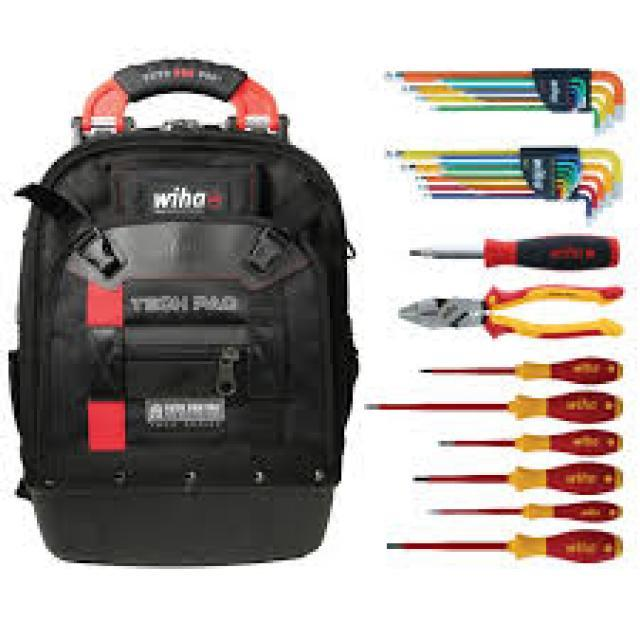screwdriver: (380, 524, 633, 578), (347, 381, 640, 427), (401, 228, 640, 278), (398, 459, 634, 496), (404, 352, 640, 386), (420, 493, 630, 528), (425, 426, 633, 460)
